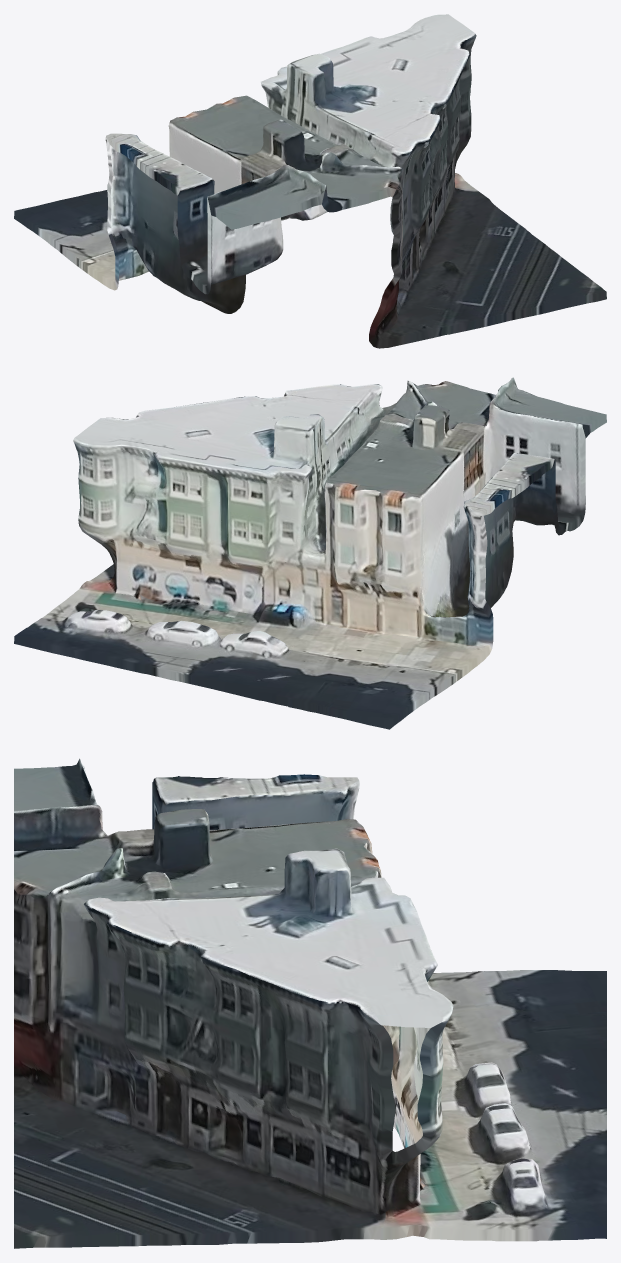
File: z20-167729-405192-h0-yup-uvflip-v3-world.glb
The picture shows the model from 3 angles, top to bottom: view 1: azimuth 30°, elevation 25°; view 2: azimuth 150°, elevation 25°; view 3: azimuth 270°, elevation 25°; orthographic projection. The views are drawn at different scales.
Size of the model in its own units: 30.24 by 15.24 by 30.32.
1 material, 1 textured.
